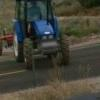Tractor: (5, 5, 82, 76)
